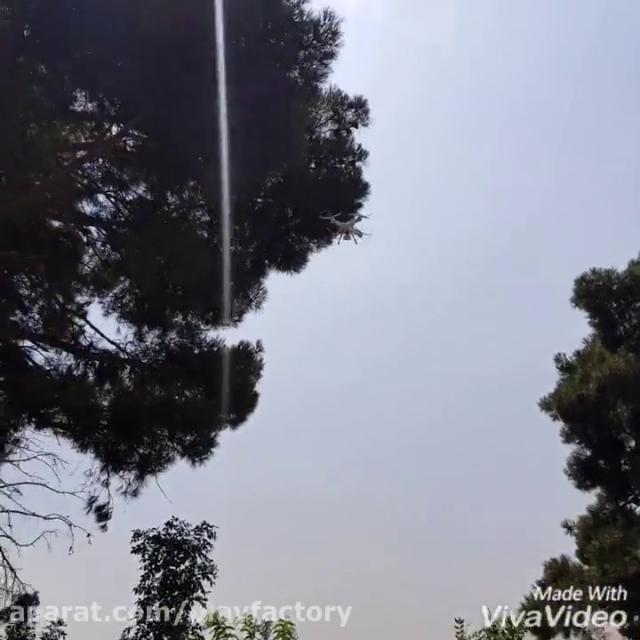drone: (320, 206, 376, 247)
